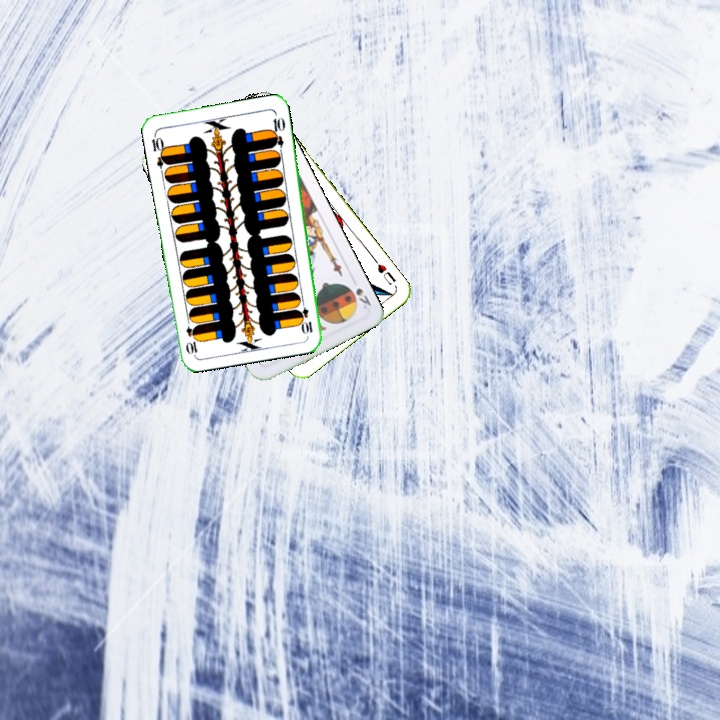E10: (147, 130, 171, 170), (296, 296, 315, 337)
HU: (373, 260, 399, 288)
SK: (352, 284, 374, 311)
